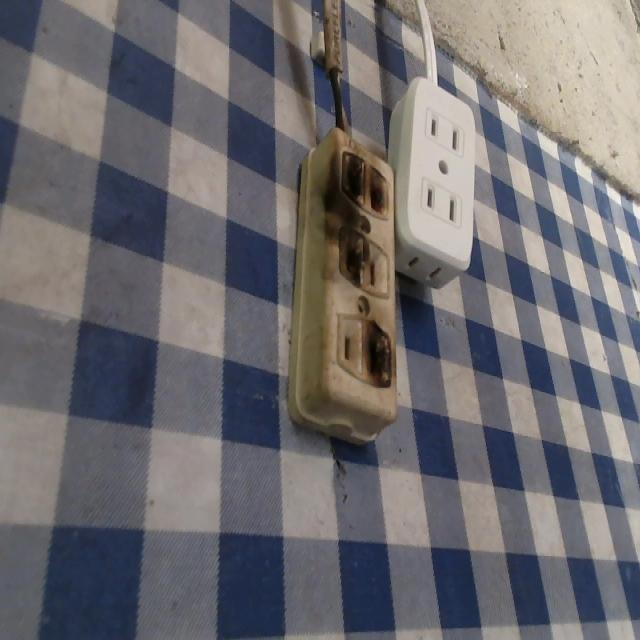-: (327, 143, 398, 225), (356, 308, 408, 399), (331, 216, 371, 297)
